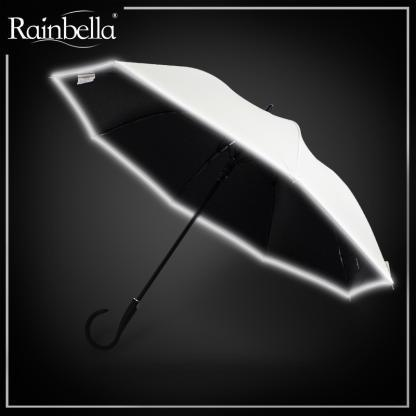Umbrella: (48, 67, 378, 366)
